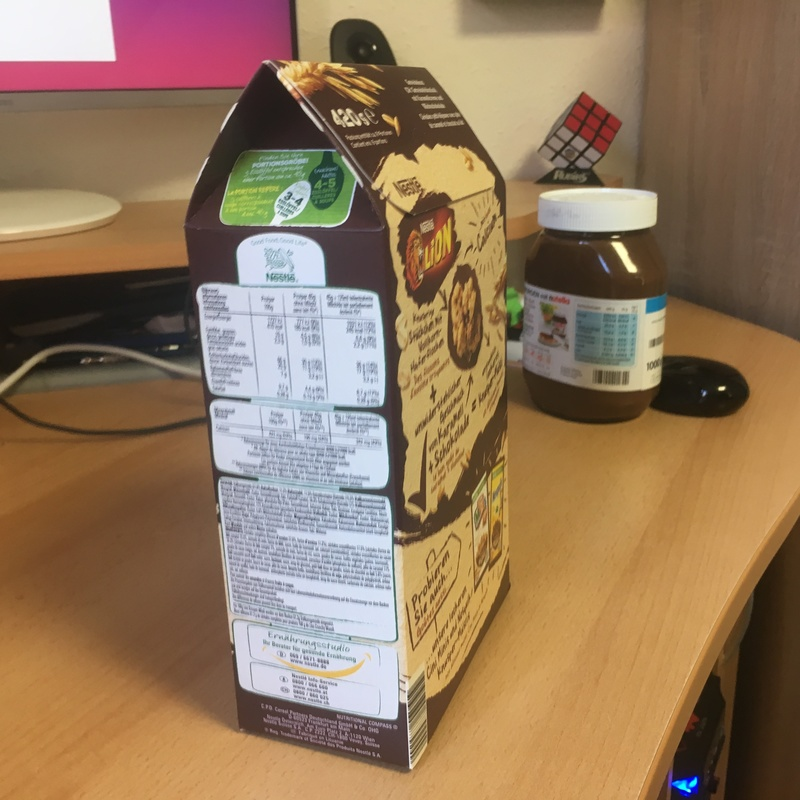cereals: (185, 59, 513, 773)
